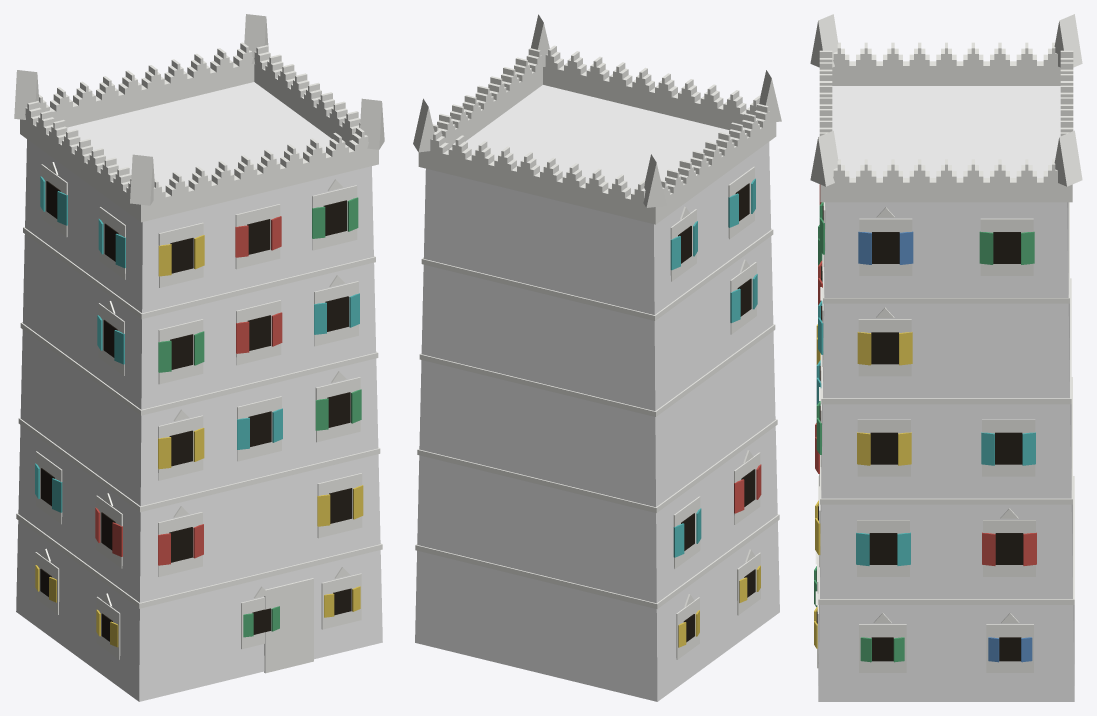
The model's file is SM_RijalAlmaaHouse_01.fbx.
3 views of the same model, side by side, from view 1: azimuth 30°, elevation 25°; view 2: azimuth 150°, elevation 25°; view 3: azimuth 270°, elevation 25° (orthographic). The views are drawn at different scales.
Visible parts, largest first — view 1: SM_RijalAlmaaHouse_01; view 2: SM_RijalAlmaaHouse_01; view 3: SM_RijalAlmaaHouse_01.
Boxes of the visible parts, x1,y1,x2,y2 form: SM_RijalAlmaaHouse_01: (14,14,384,701); SM_RijalAlmaaHouse_01: (413,14,781,701); SM_RijalAlmaaHouse_01: (810,14,1082,701).
Bounding box in the file's own units: 837 × 1705 × 743.
